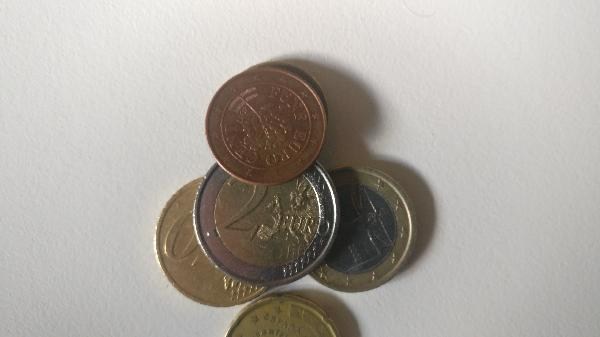Fifty Cent: (151, 177, 288, 301)
Five Cent: (199, 65, 339, 186)
One Euro: (304, 168, 417, 295)
Twenty Cent: (220, 298, 342, 337)
Two Euro: (200, 159, 337, 288)
